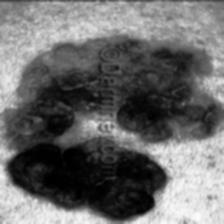Potentially Malignant Skin Tumors: (11, 141, 85, 193), (122, 140, 170, 188), (32, 99, 82, 134), (136, 101, 181, 127)
